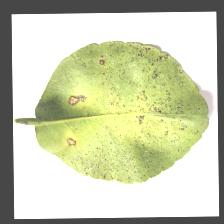canker: (99, 48, 188, 151)
